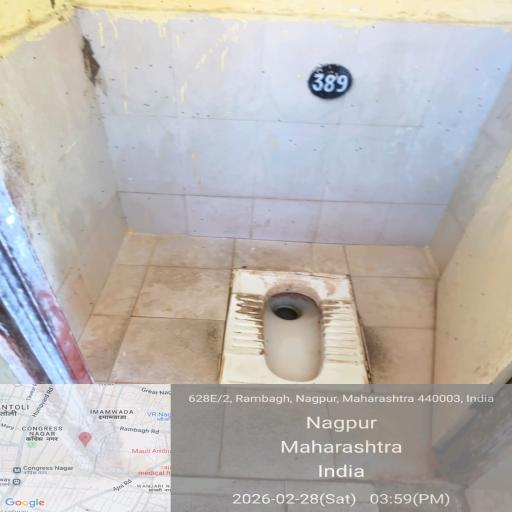dirty_floor: (100, 238, 447, 387)
dirty_indian: (226, 266, 365, 382)
partial_dirty_floor: (152, 22, 489, 198), (0, 143, 107, 301), (48, 2, 136, 112)
